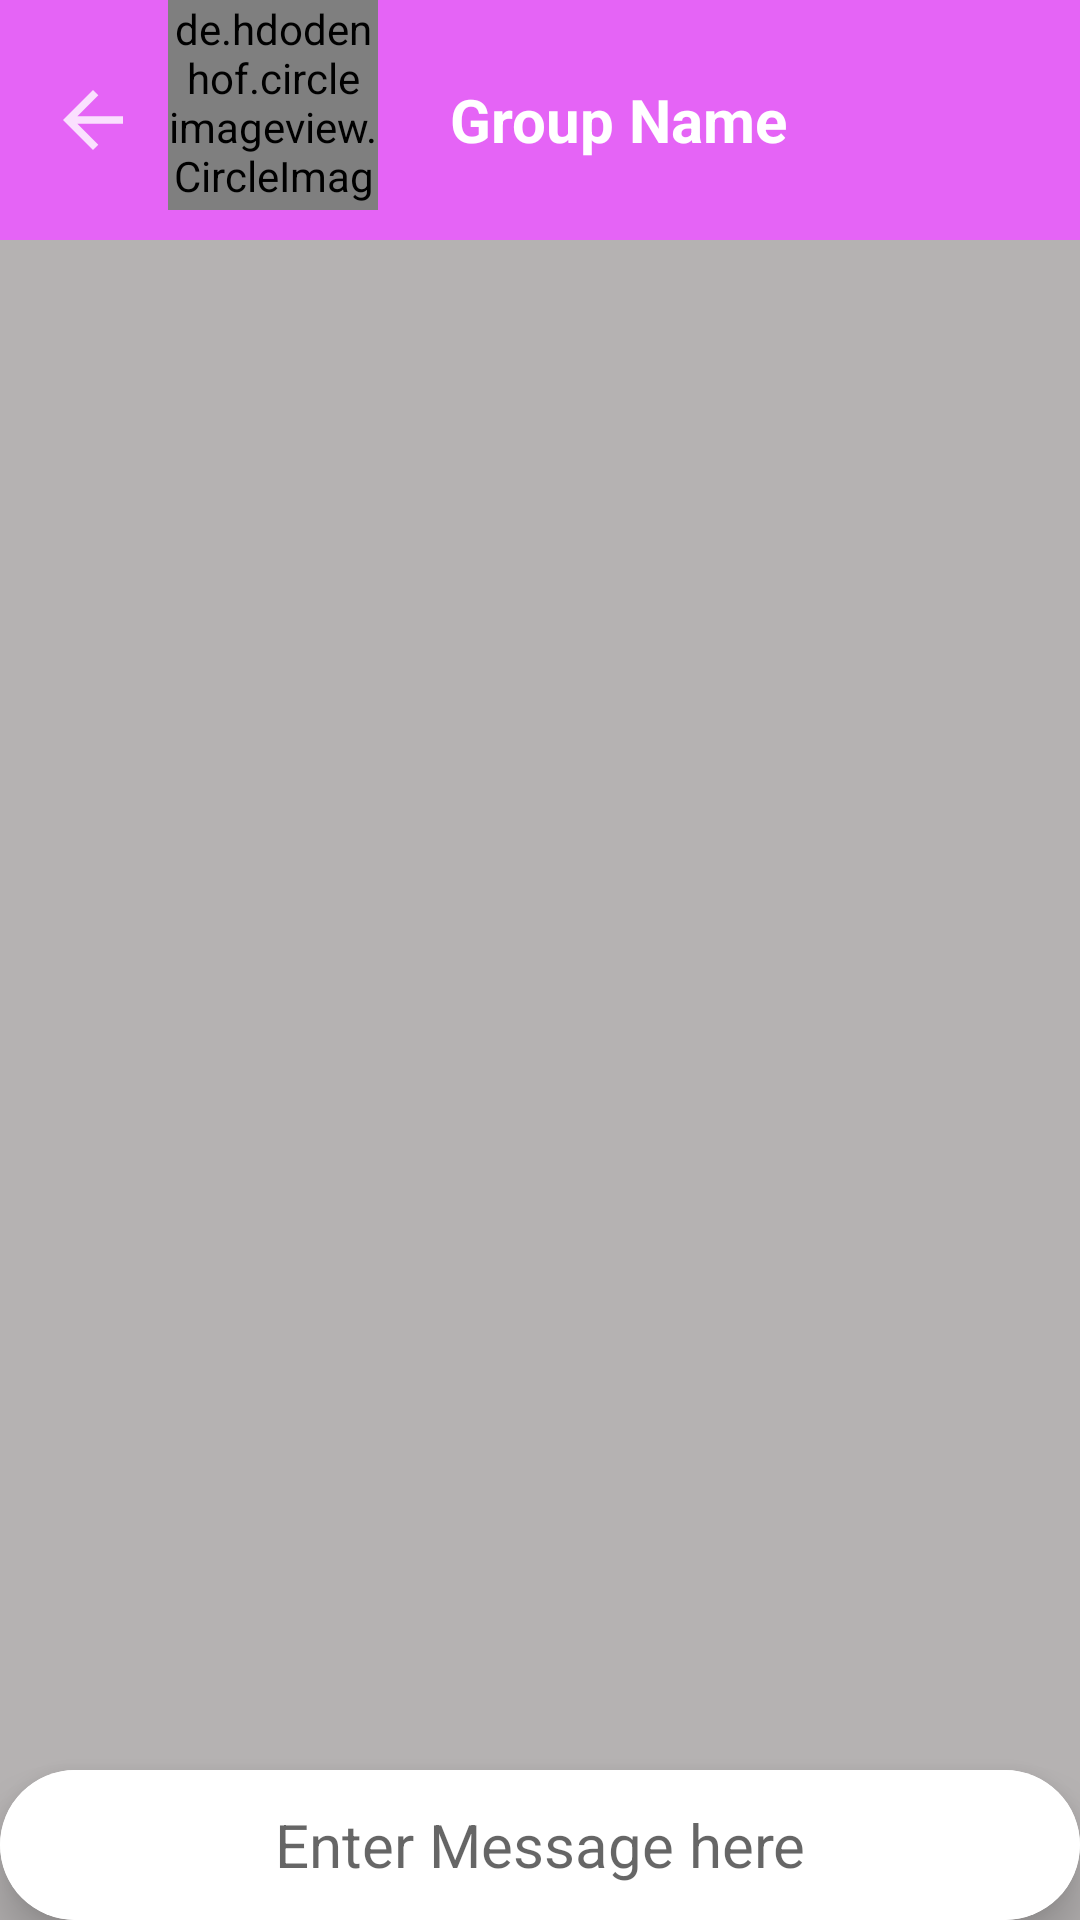

Point at icon controls on the screen. Image size 1080px×1920px, points as point (x, y).
back: point (93, 120)
